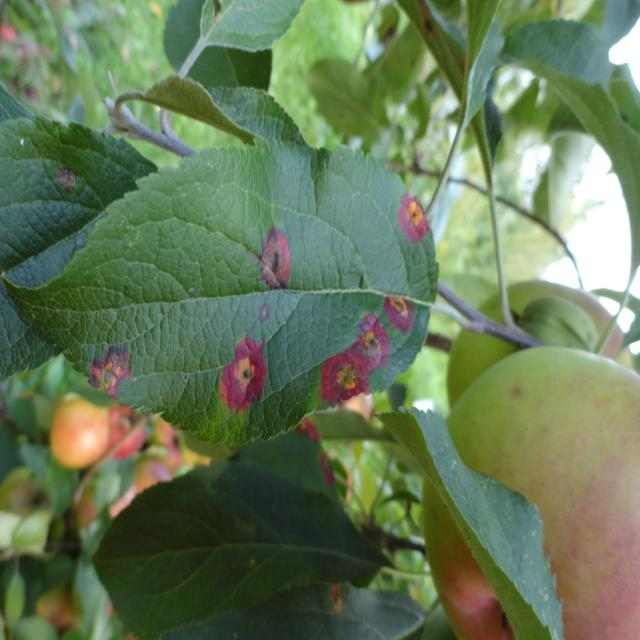Rust: (222, 332, 272, 424), (316, 334, 372, 412), (256, 212, 297, 296), (84, 341, 139, 397), (356, 308, 402, 371), (384, 276, 431, 336), (401, 186, 432, 259), (302, 400, 324, 444)
